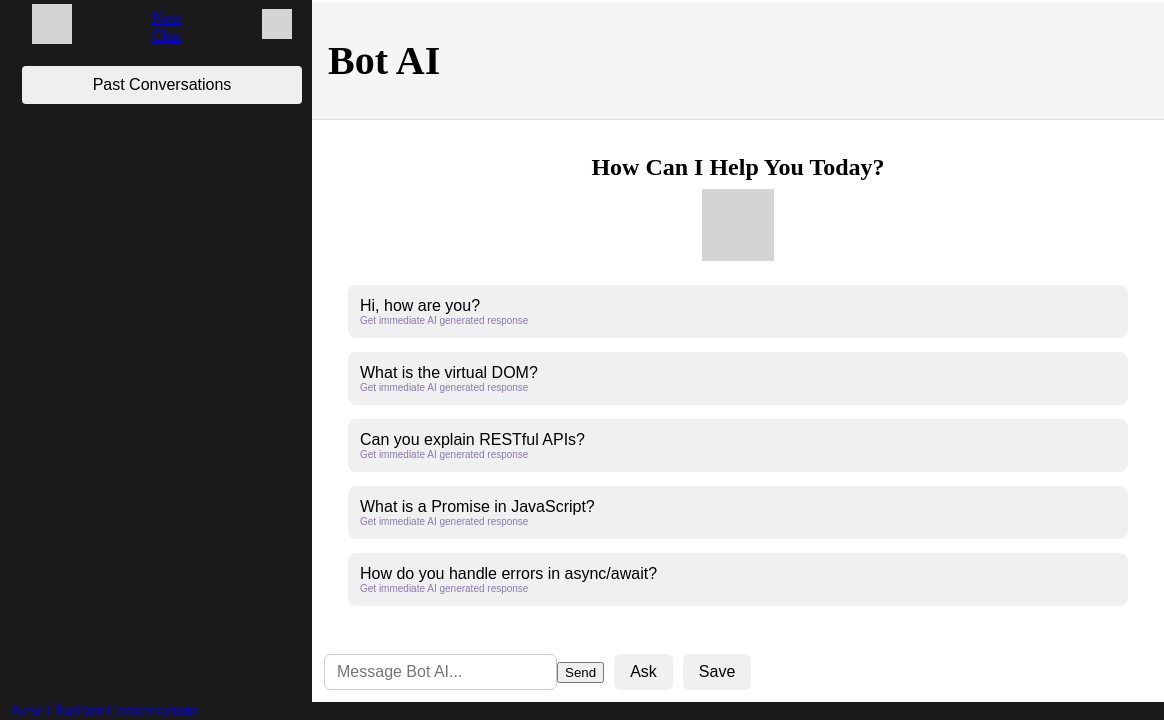
Test: Bot AI Application › Should show valid message if the question is present in the static JSON data
The image size is (1164, 720).
(page scrolled)
Type "Can you explain RESTful APIs?" into the field with placeholder "Message Bot AI...".
click(441, 672); type("Can you explain RESTful APIs?")  # box [324, 654, 557, 690]
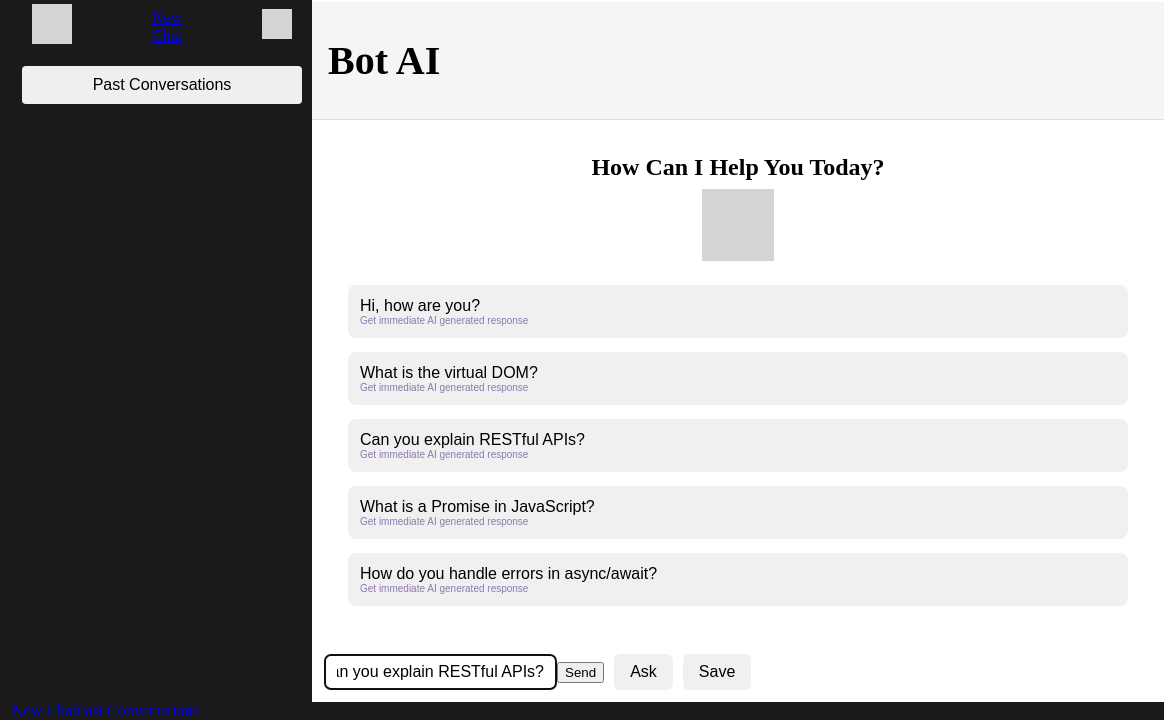
Click the submit button.
click(581, 673)  # box [557, 662, 604, 683]
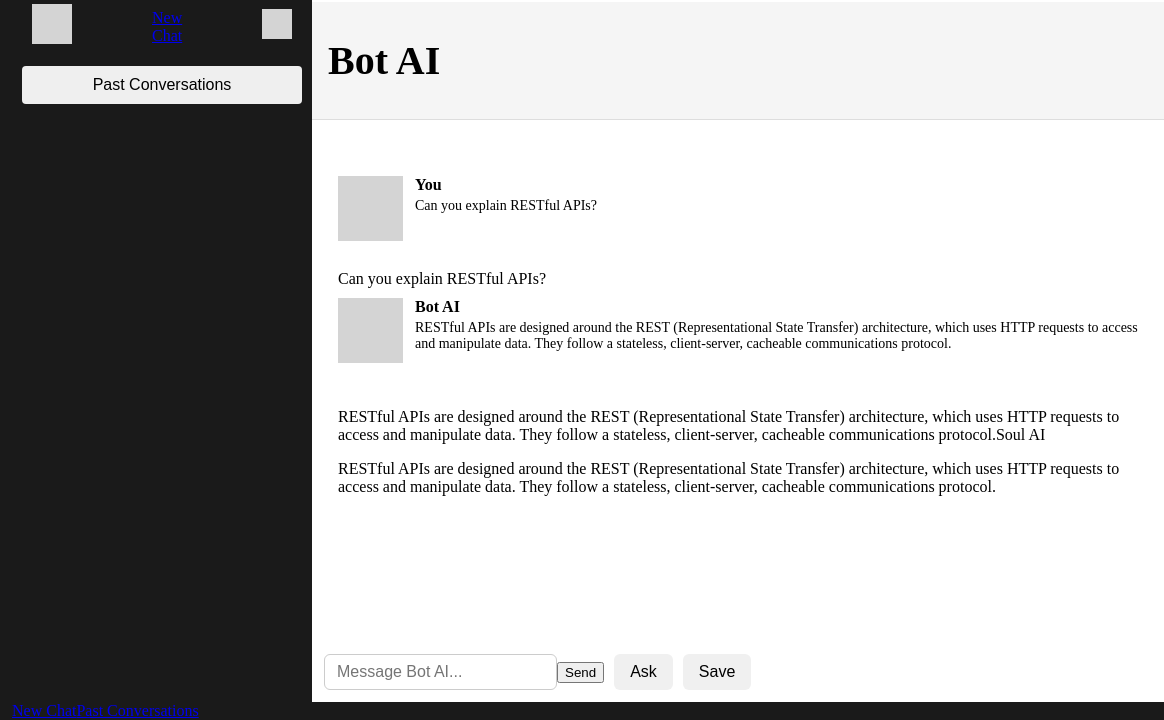
Result: the 1st text "RESTful APIs are designed around the REST (Representational State Transfer) architecture, which uses HTTP requests to ac" is shown at [415, 320, 1138, 351]
